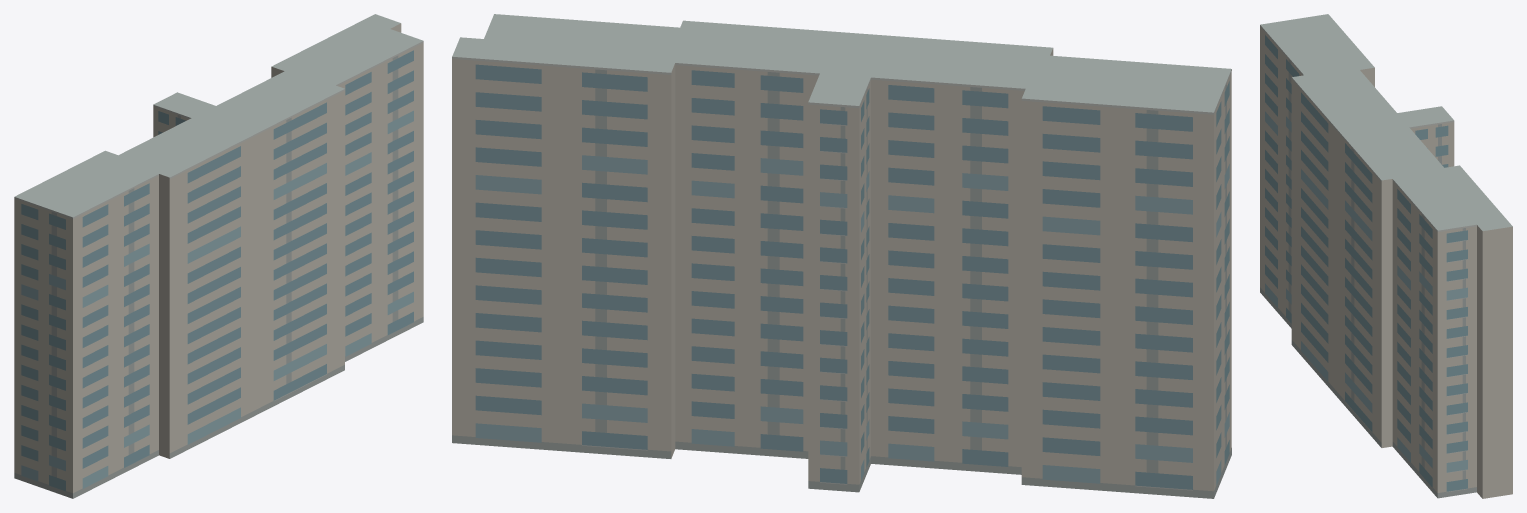
File: residential-14a703f5-0797-4b3c-a8b0-3982a6fbcf55.glb
3 views of the same model, side by side, from view 1: azimuth 30°, elevation 25°; view 2: azimuth 150°, elevation 25°; view 3: azimuth 270°, elevation 25° (orthographic). The views are drawn at different scales.
Visible parts, largest first — view 1: residential-14a703f5-0797-4b3c-a8b0-3982a6fbcf55.tmp; view 2: residential-14a703f5-0797-4b3c-a8b0-3982a6fbcf55.tmp; view 3: residential-14a703f5-0797-4b3c-a8b0-3982a6fbcf55.tmp.
Boxes of the visible parts, <box> form: residential-14a703f5-0797-4b3c-a8b0-3982a6fbcf55.tmp: <box>14,14,423,498</box>; residential-14a703f5-0797-4b3c-a8b0-3982a6fbcf55.tmp: <box>452,14,1231,498</box>; residential-14a703f5-0797-4b3c-a8b0-3982a6fbcf55.tmp: <box>1260,14,1512,498</box>.
Size of the model in its own units: 74.32 by 42.7 by 36.57.
